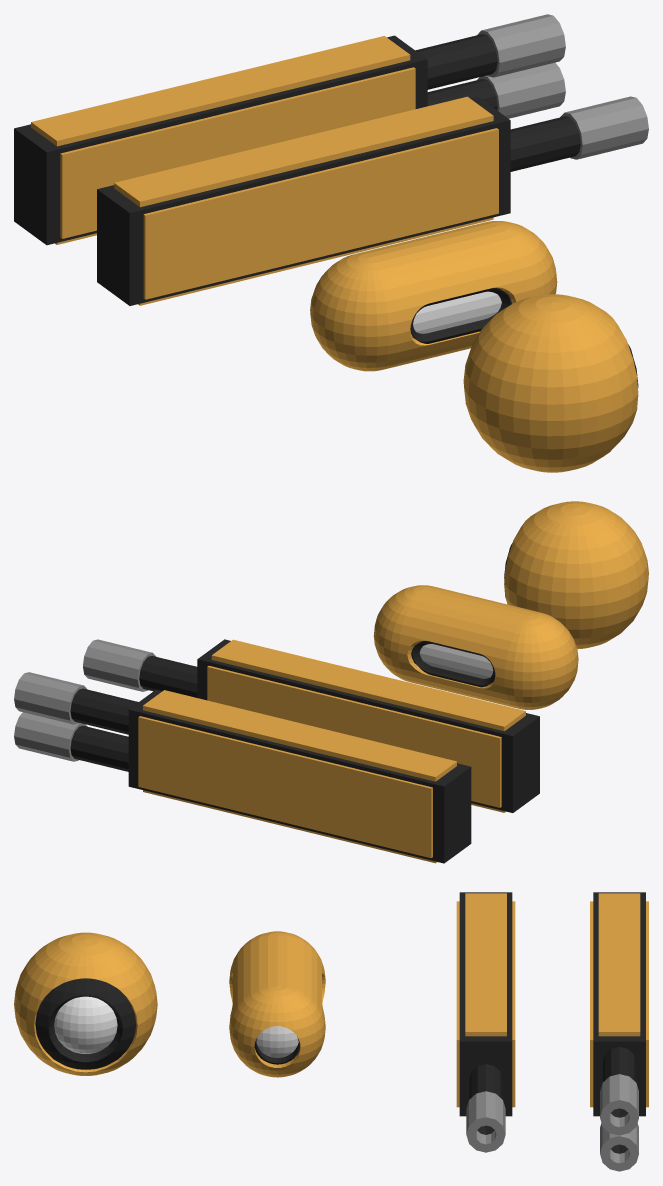
The model's file is guns.fbx.
3 views of the same model, one above another, from view 1: azimuth 30°, elevation 25°; view 2: azimuth 150°, elevation 25°; view 3: azimuth 270°, elevation 25° (orthographic). The views are drawn at different scales.
Visible parts, largest first — view 1: 5.56 Rifle Plating, 5.56 Auto Rifle Plating, Proton Cannon Plating, Plasma Rifle Plating, 5.56 Auto Rifle, 5.56 Rifle, Plasma Rifle; view 2: 5.56 Auto Rifle Plating, 5.56 Rifle Plating, Plasma Rifle Plating, 5.56 Auto Rifle, Proton Cannon Plating, 5.56 Rifle, Plasma Rifle; view 3: Plasma Rifle Plating, Proton Cannon Plating, 5.56 Auto Rifle, 5.56 Rifle Plating, 5.56 Auto Rifle Plating, 5.56 Rifle, Proton Cannon, Plasma Rifle.
Boxes of the visible parts, x1,y1,x2,y2 form: 5.56 Rifle Plating: (114, 96, 498, 305); 5.56 Auto Rifle Plating: (31, 36, 415, 244); Proton Cannon Plating: (463, 294, 638, 472); Plasma Rifle Plating: (310, 221, 557, 371); 5.56 Auto Rifle: (14, 14, 565, 245); 5.56 Rifle: (97, 96, 648, 305); Plasma Rifle: (410, 288, 511, 343); 5.56 Auto Rifle Plating: (138, 690, 456, 863); 5.56 Rifle Plating: (207, 639, 525, 812); Plasma Rifle Plating: (373, 585, 578, 709); 5.56 Auto Rifle: (14, 672, 471, 863); Proton Cannon Plating: (504, 501, 648, 649); 5.56 Rifle: (83, 639, 539, 812); Plasma Rifle: (411, 641, 495, 687); Plasma Rifle Plating: (229, 931, 325, 1077); Proton Cannon Plating: (14, 932, 157, 1075); 5.56 Auto Rifle: (593, 892, 645, 1171); 5.56 Rifle Plating: (456, 893, 515, 1107); 5.56 Auto Rifle Plating: (590, 893, 648, 1107); 5.56 Rifle: (459, 892, 512, 1152); Proton Cannon: (35, 978, 136, 1069); Plasma Rifle: (254, 1026, 300, 1064).
Size of the model in its own units: 15.4 by 11.78 by 3.48.
